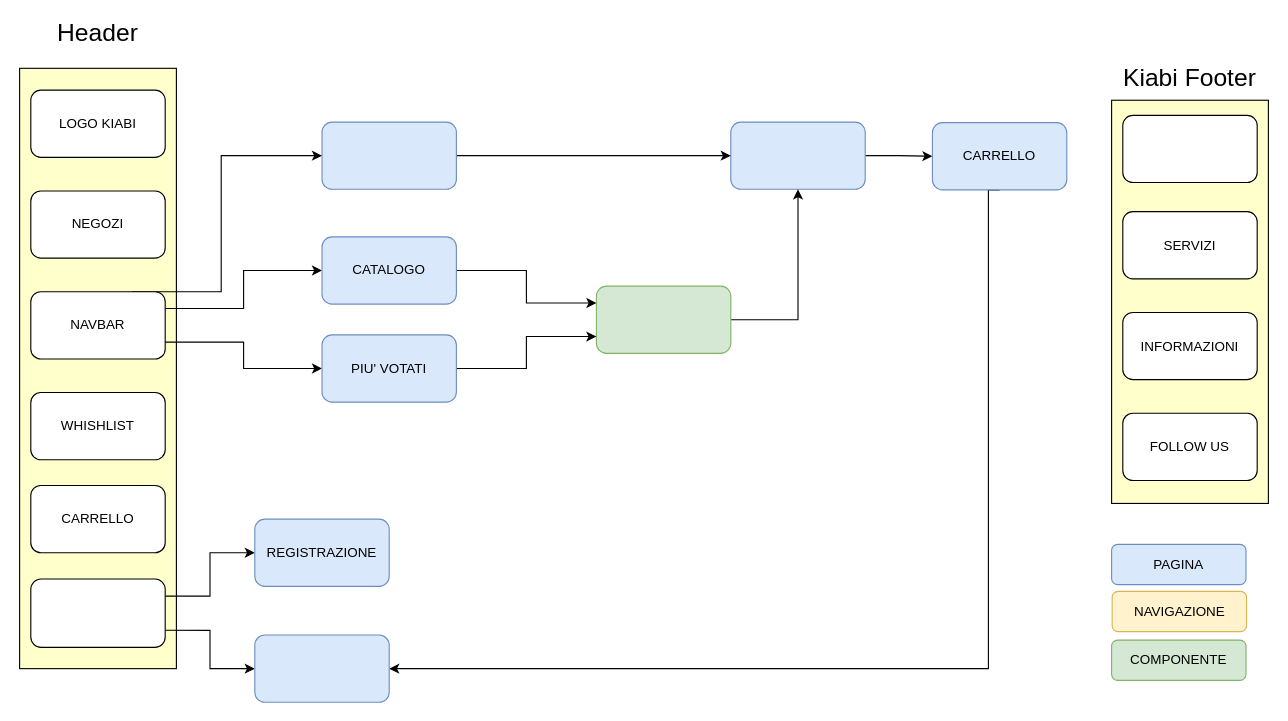
The diagram is 1288 pixels wide and 721 high, and some of its shapes have lost their labels. Each missing label, with the box of its shape:
AIUTO: (1122, 114, 1257, 183)
EDITOR: (730, 121, 865, 189)
HOMEPAGE KIDS EXPERIENCE: (321, 121, 456, 189)
LOGIN: (254, 634, 389, 702)
LOGIN / REGISTRAZIONE - LOGOUT: (30, 578, 165, 647)
RIEPILOGO: (595, 285, 731, 353)
